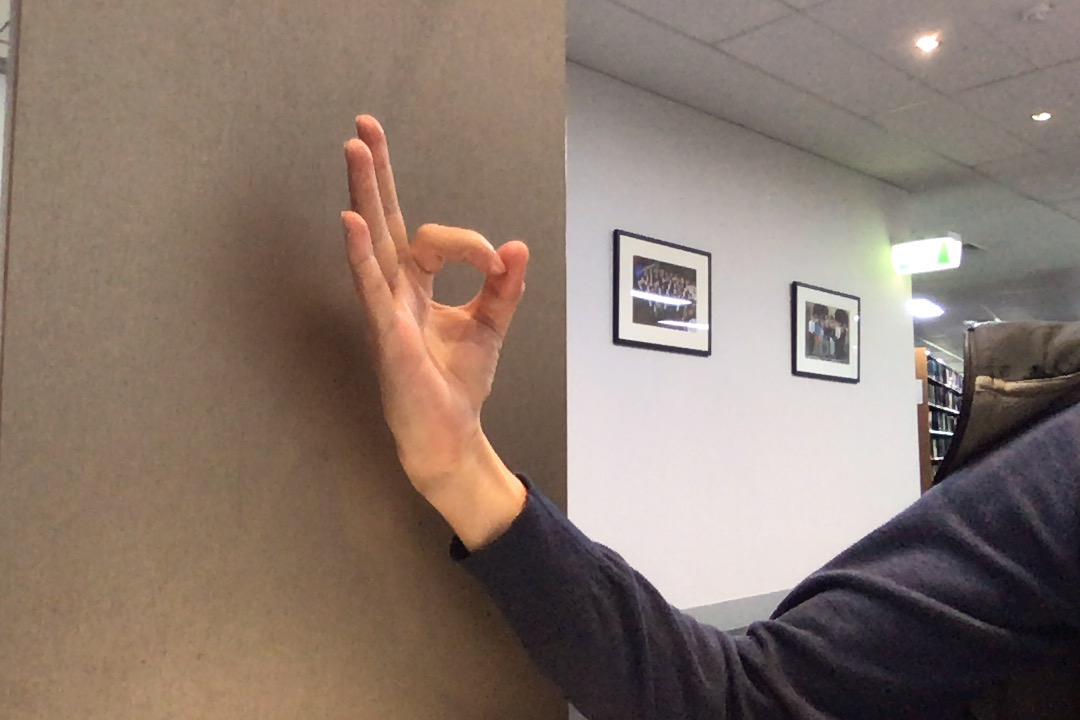oksign: (328, 102, 546, 452)
